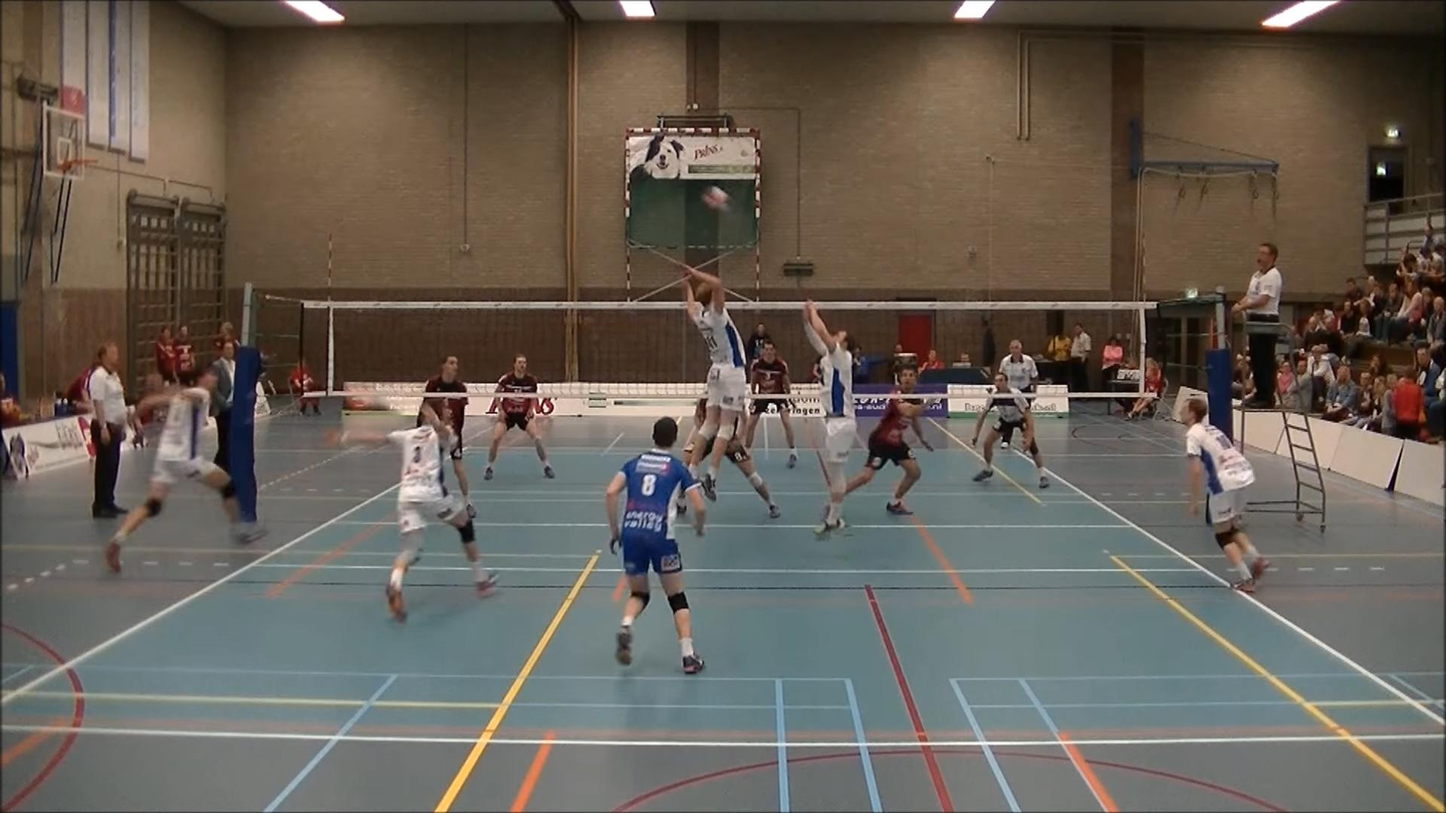alzata: (794, 298, 864, 548)
attacco: (683, 258, 751, 505)
